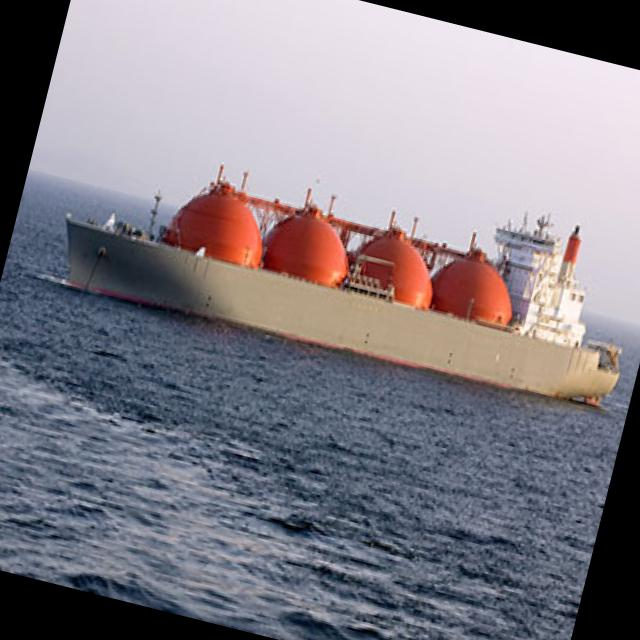boat: (34, 89, 640, 449)
